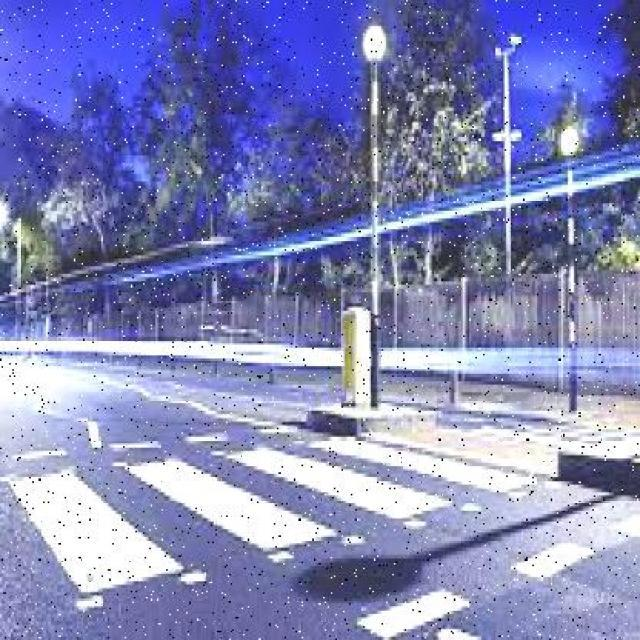crosswalk: (26, 429, 520, 573)
